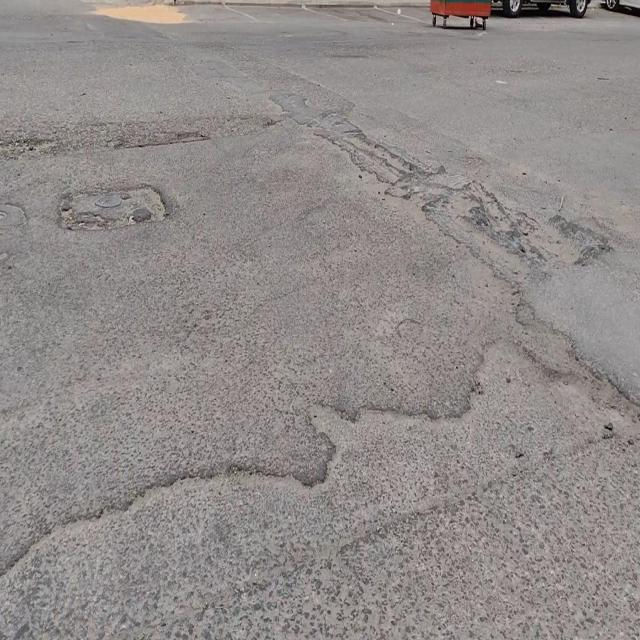Potholes: (56, 181, 170, 234)
